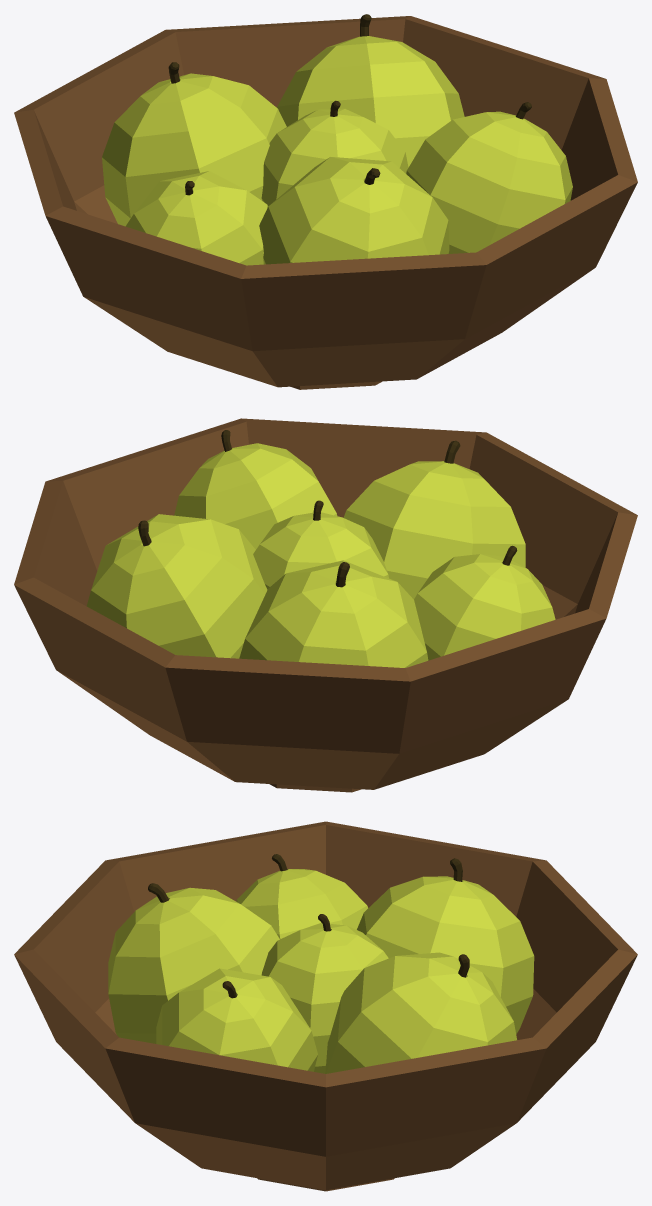
File: PutSa ingre.glb
The picture shows the model from 3 angles, top to bottom: view 1: azimuth 30°, elevation 25°; view 2: azimuth 150°, elevation 25°; view 3: azimuth 270°, elevation 25°; orthographic projection. The views are drawn at different scales.
Parts seen in each view (by area): view 1: Circle, Sphere.006; view 2: Circle, Sphere.006; view 3: Circle, Sphere.006.
Boxes of the visible parts, box(x1,y1,x2,y2) form: Circle: box(14, 16, 637, 389); Sphere.006: box(102, 14, 572, 265); Circle: box(14, 418, 637, 792); Sphere.006: box(86, 430, 555, 667); Circle: box(14, 821, 637, 1191); Sphere.006: box(108, 854, 534, 1073).
Size of the model in its own units: 0.7615 by 0.3361 by 0.7552.
